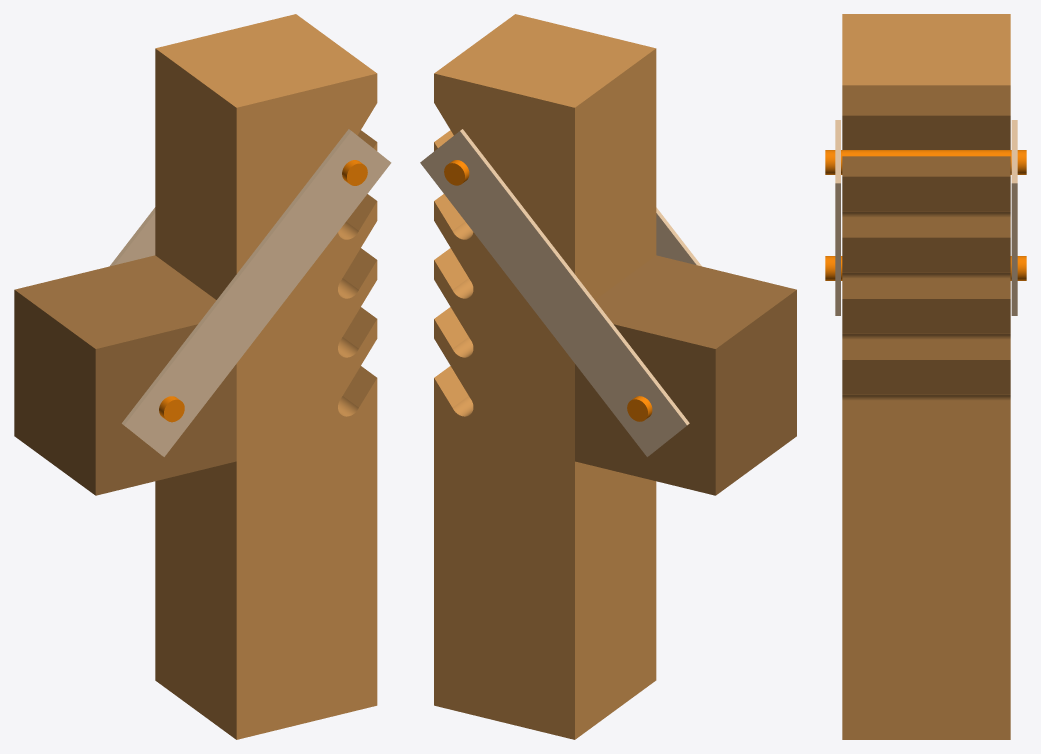
The picture shows the model from 3 angles, left to right: view 1: azimuth 30°, elevation 25°; view 2: azimuth 150°, elevation 25°; view 3: azimuth 270°, elevation 25°; orthographic projection. The views are drawn at different scales.
Bounding box in the file's own units: 1.04 × 2.15 × 0.5978.
